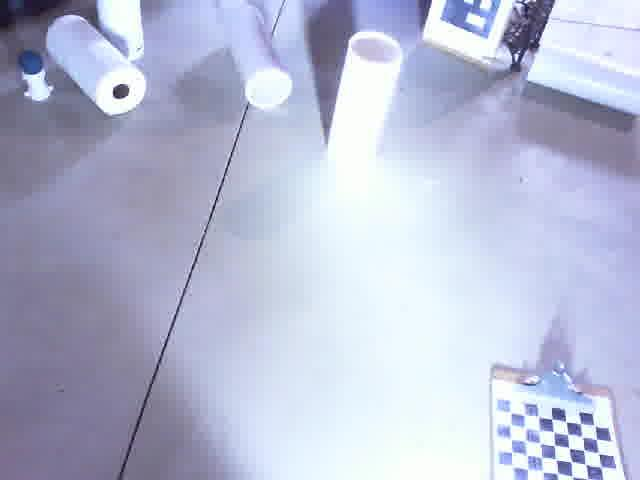coral: (319, 26, 413, 177), (218, 0, 300, 119), (91, 0, 150, 65)
